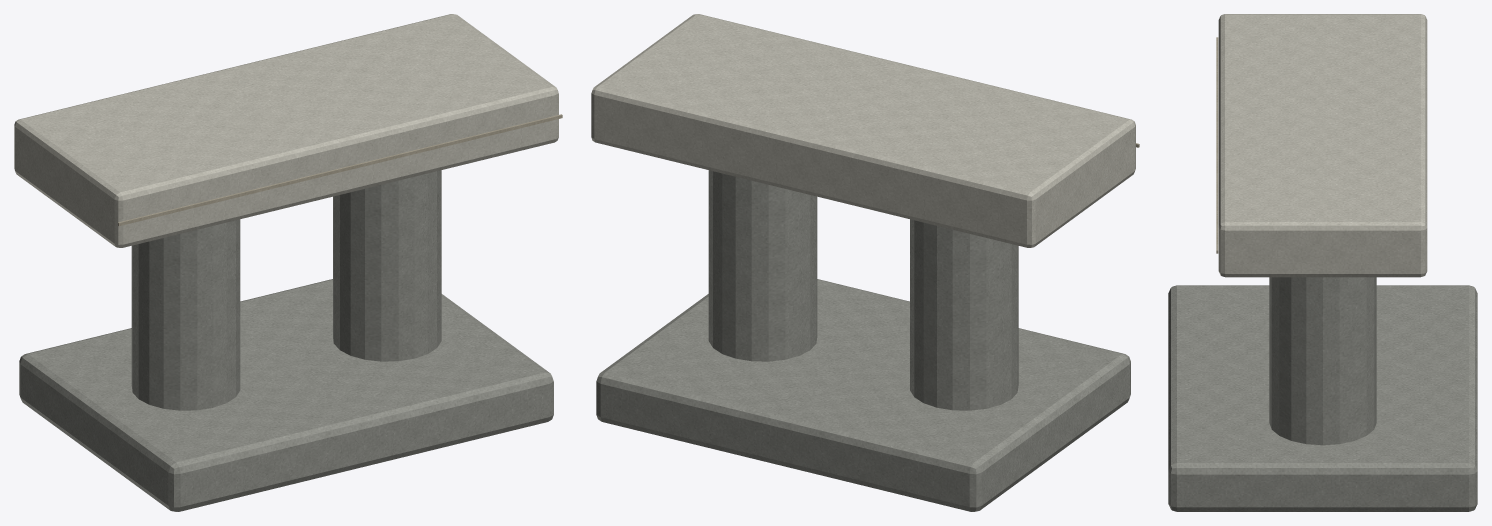
File: BRG_SUPPORT_PIER_1x1_MID_100.glb
3 renders of one model, left to right at view 1: azimuth 30°, elevation 25°; view 2: azimuth 150°, elevation 25°; view 3: azimuth 270°, elevation 25°, orthographic.
Parts seen in each view (by area): view 1: BRG_SUPPORT_PIER_1x1_MID_100_Visual; view 2: BRG_SUPPORT_PIER_1x1_MID_100_Visual; view 3: BRG_SUPPORT_PIER_1x1_MID_100_Visual.
Boxes of the visible parts, x1,y1,x2,y2 form: BRG_SUPPORT_PIER_1x1_MID_100_Visual: (14,14,562,511); BRG_SUPPORT_PIER_1x1_MID_100_Visual: (591,14,1139,511); BRG_SUPPORT_PIER_1x1_MID_100_Visual: (1168,14,1477,511).
Size of what is drawn, in the model's own units: 1.5 by 1 by 0.92.
Materials: 4 (3 with a texture image).
